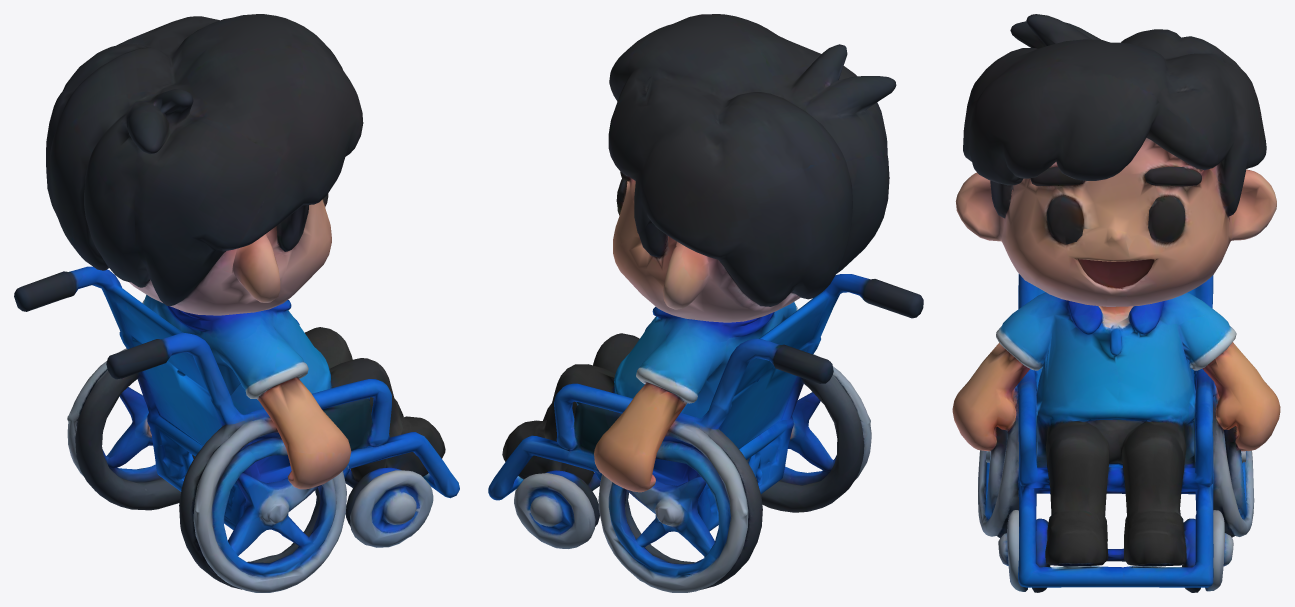
Rendered from boy-wheelchair.glb.
3 renders of one model, left to right at view 1: azimuth 30°, elevation 25°; view 2: azimuth 150°, elevation 25°; view 3: azimuth 270°, elevation 25°, orthographic. The views are drawn at different scales.
Visible parts, largest first — view 1: tripo_node_b66f3f94-8b79-4e53-b0a0-0de1fbdef774; view 2: tripo_node_b66f3f94-8b79-4e53-b0a0-0de1fbdef774; view 3: tripo_node_b66f3f94-8b79-4e53-b0a0-0de1fbdef774.
Part boxes in pixels (x1,y1,x2,y2): tripo_node_b66f3f94-8b79-4e53-b0a0-0de1fbdef774: (14,14,459,592); tripo_node_b66f3f94-8b79-4e53-b0a0-0de1fbdef774: (488,14,923,592); tripo_node_b66f3f94-8b79-4e53-b0a0-0de1fbdef774: (952,14,1280,592).
Size of the model in its own units: 0.7254 by 1 by 0.5966.
1 material, 1 textured.
